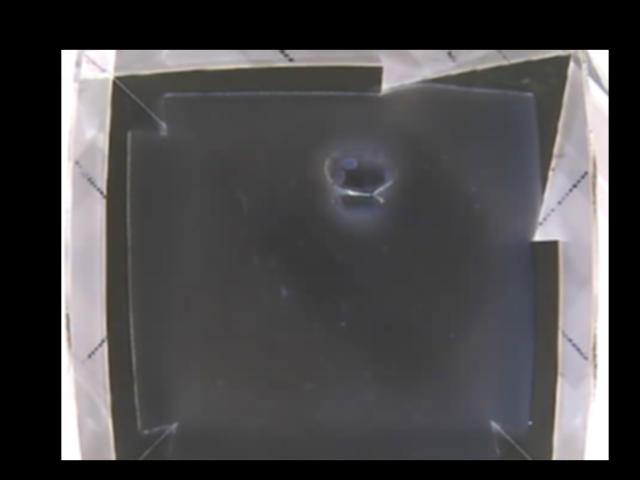Shell: (322, 148, 398, 211)
